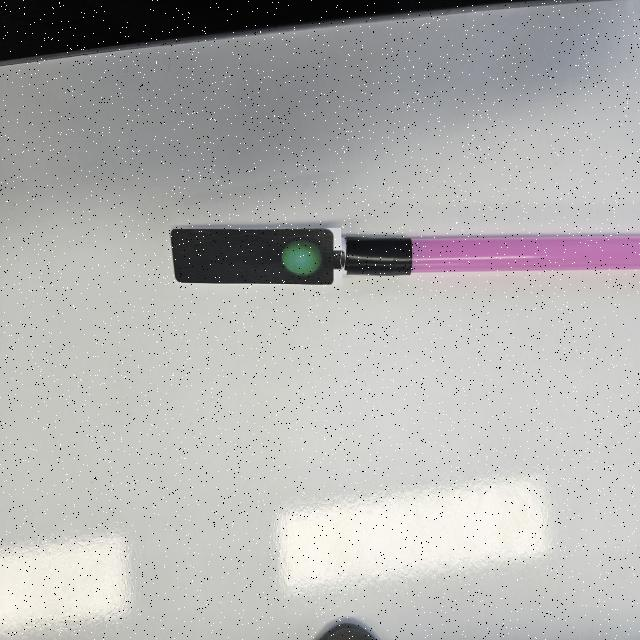traffic light: (170, 228, 341, 287)
